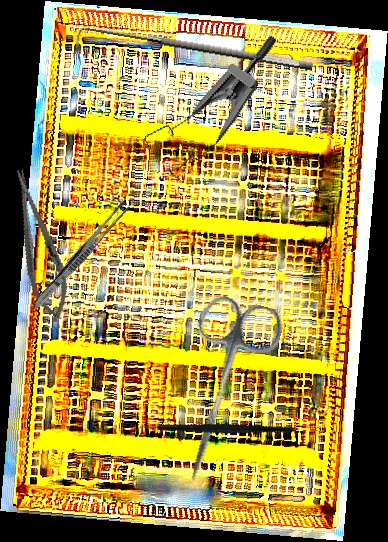Chopper: (127, 371, 296, 492)
Dressing Forceps: (28, 197, 133, 314)
Hook Surgical: (75, 18, 314, 90)
Iris Scissors: (155, 290, 288, 493)
Needle Holder: (2, 164, 77, 326)
Speculum: (134, 5, 279, 195)
